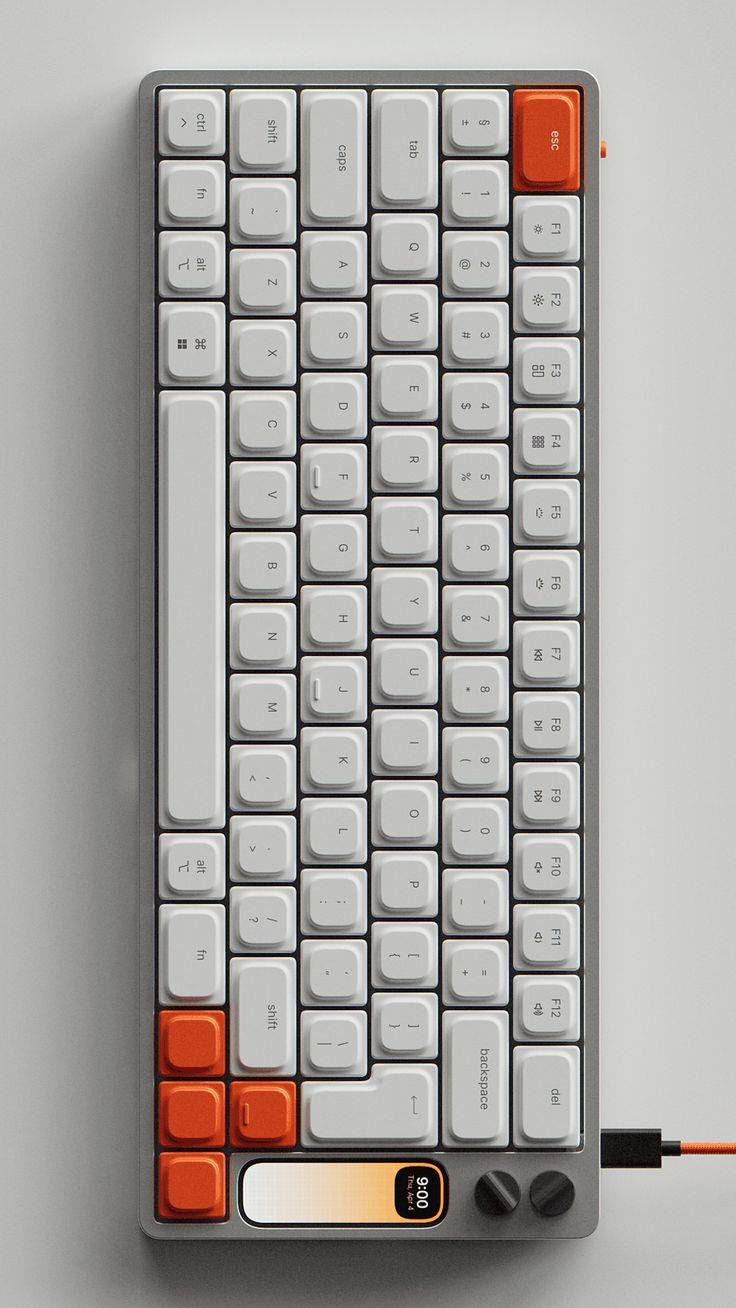keyboard: (138, 67, 601, 1242)
